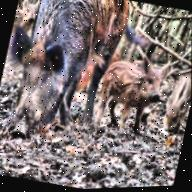boar: (0, 0, 121, 175), (95, 43, 171, 139), (148, 69, 191, 151)
